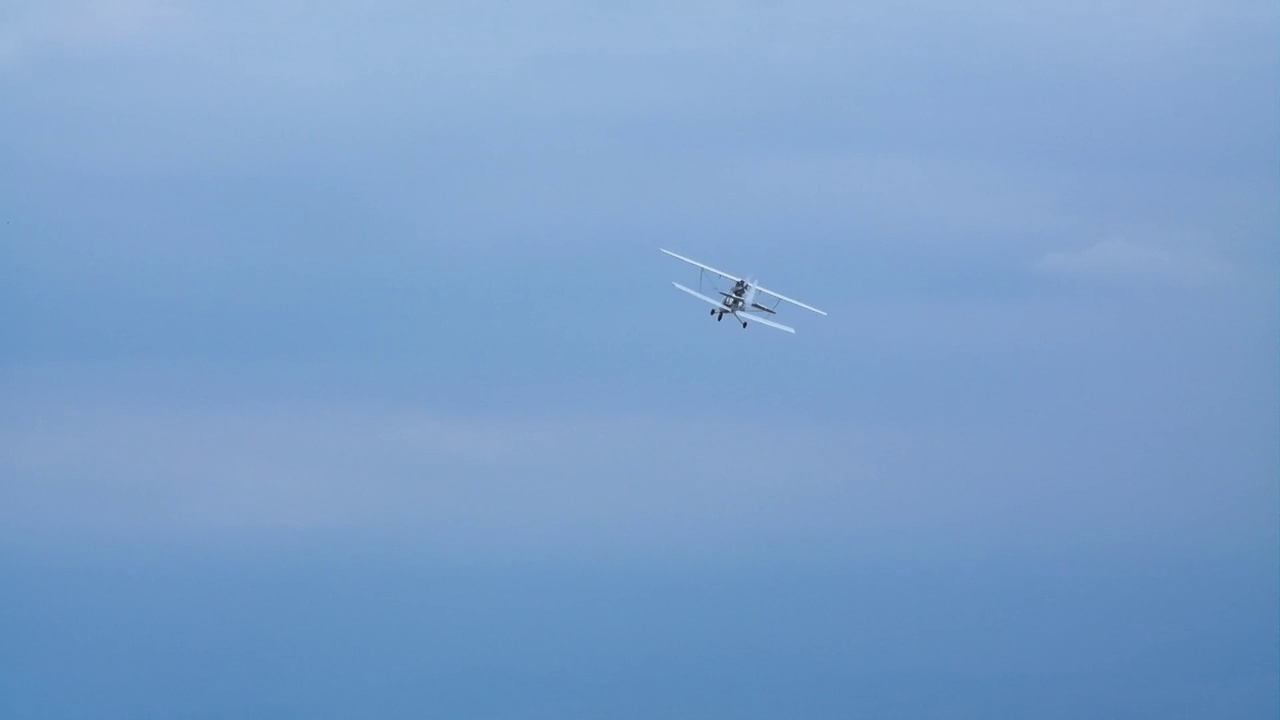plane: (657, 245, 828, 335)
